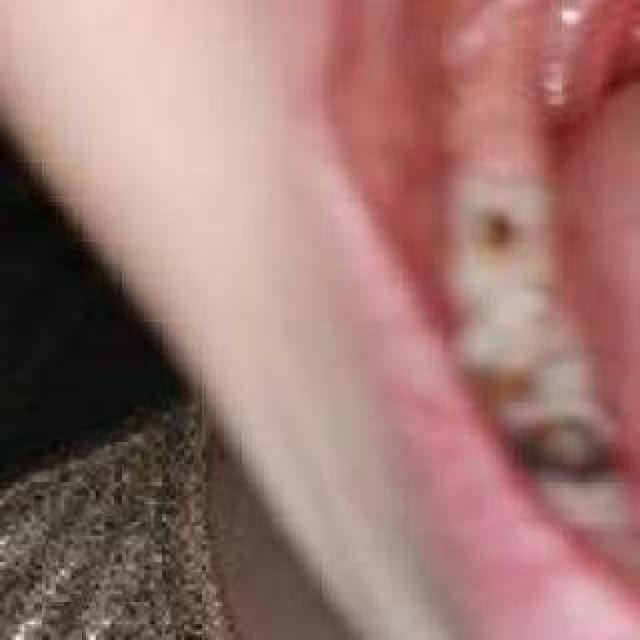cavities: (502, 405, 622, 503), (480, 181, 542, 255)
